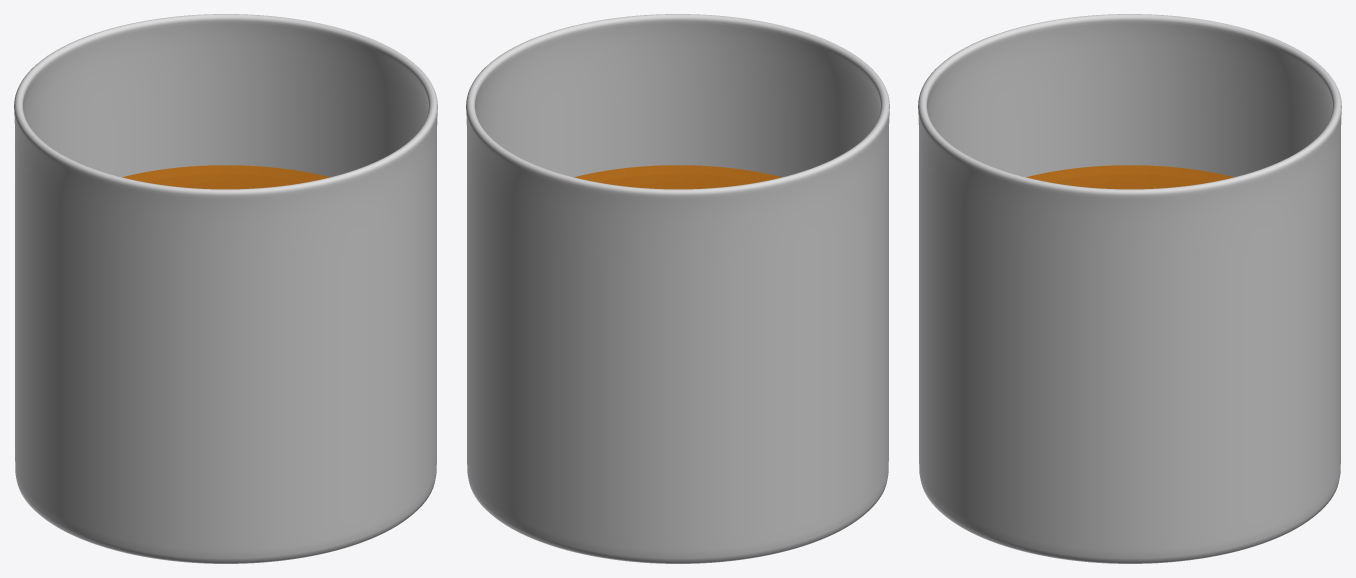
File: Whisky.glb
3 views of the same model, side by side, from view 1: azimuth 30°, elevation 25°; view 2: azimuth 150°, elevation 25°; view 3: azimuth 270°, elevation 25° (orthographic).
Visible parts, largest first — view 1: glass with ice_3, whiskey 2_2; view 2: glass with ice_3, whiskey 2_2; view 3: glass with ice_3, whiskey 2_2.
Part boxes in pixels (box(x1,y1,x2,y2)): glass with ice_3: box(14, 14, 437, 563); whiskey 2_2: box(122, 165, 329, 189); glass with ice_3: box(466, 14, 889, 563); whiskey 2_2: box(574, 165, 781, 189); glass with ice_3: box(918, 14, 1341, 563); whiskey 2_2: box(1026, 165, 1233, 189).
Size of the model in its own units: 0.9986 by 0.9747 by 0.9986.
